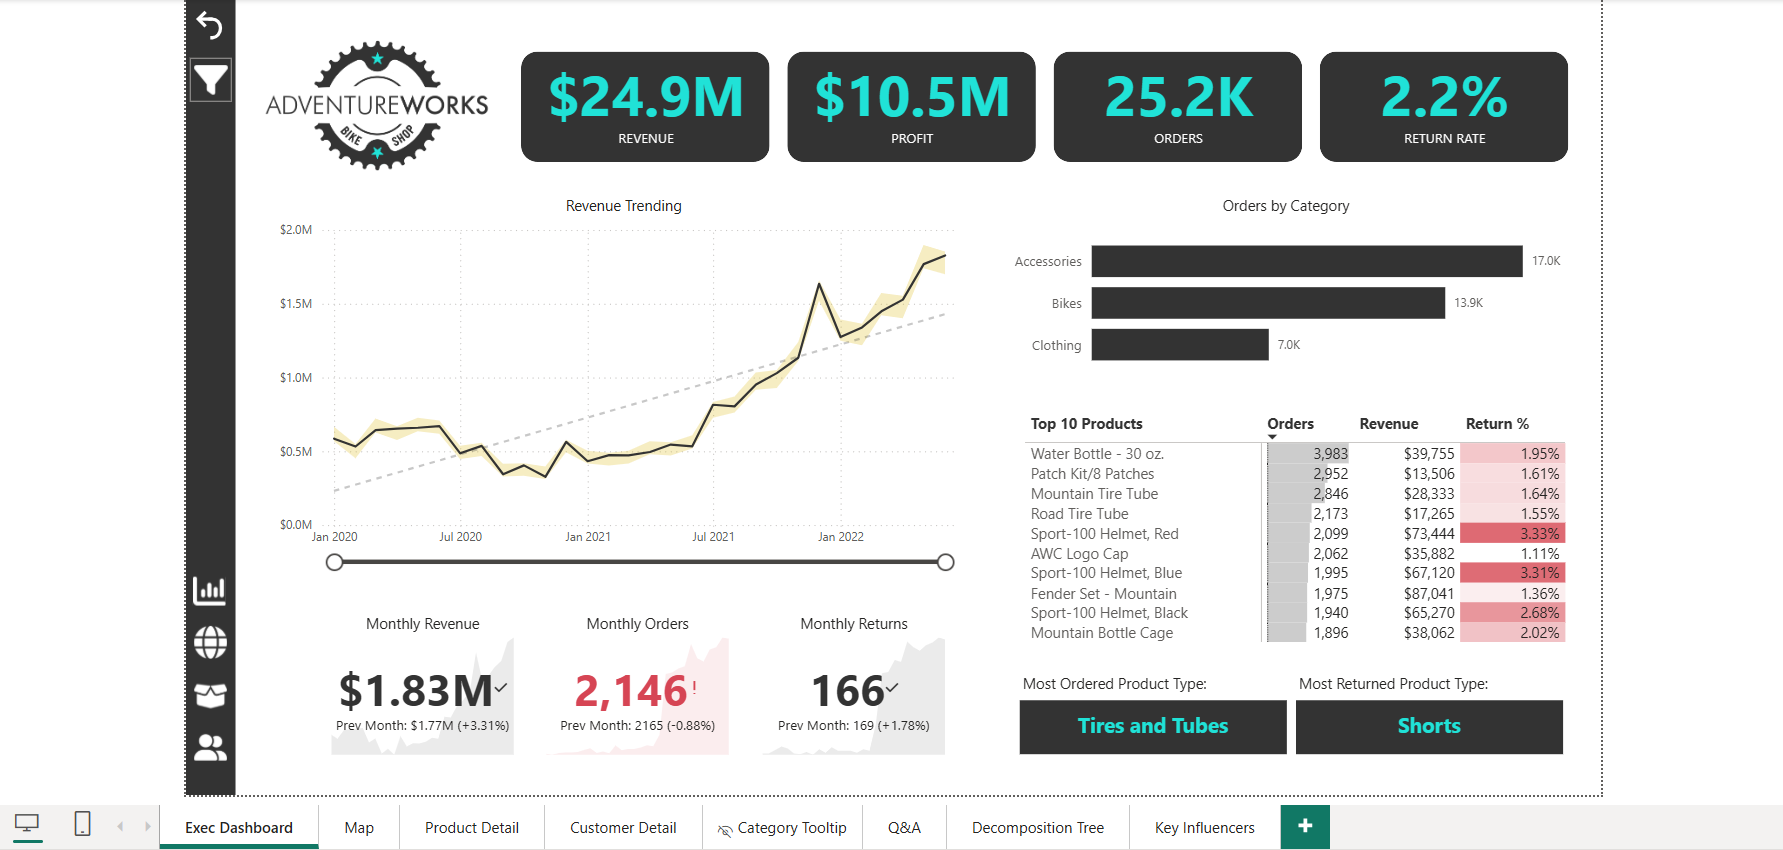

This screenshot's page, from the dashboard's own definition file:
{"tool":"powerbi","page":{"name":"Exec Dashboard","canvas":[1280,720],"ordinal":0},"visuals":[{"type":"card","fields":{"Values":["Measure Table.Total Revenue"]},"box":[288.1,17.8,256.2,150],"z":0,"group":"g2"},{"type":"image","title":"AW Logo","box":[45.6,26.6,256.2,141.2],"z":0},{"type":"shape","box":[303.1,47.8,225,100],"z":0,"group":"g1"},{"type":"actionButton","box":[2.5,516.7,45.6,37.8],"z":0,"group":"g3"},{"type":"card","fields":{"Values":["Measure Table.Total Profit"]},"box":[528.9,17.8,256.2,150],"z":1000,"group":"g2"},{"type":"shape","box":[543.9,47.8,225,100],"z":1000,"group":"g1"},{"type":"actionButton","box":[3.3,563.4,45.6,37.8],"z":1000,"group":"g3"},{"type":"card","fields":{"Values":["Measure Table.Total Orders"]},"box":[769.8,17.8,256.2,150],"z":2000,"group":"g2"},{"type":"group","id":"g1","title":"KPI Backgrounds","box":[303.1,47.8,947.5,100],"z":2000},{"type":"shape","box":[784.8,47.8,225,100],"z":2000,"group":"g1"},{"type":"actionButton","box":[3.3,611.1,45.6,37.8],"z":2000,"group":"g3"},{"type":"shape","title":"Left Nav Background","box":[0,0,45,720],"z":3000},{"type":"card","fields":{"Values":["Measure Table.Return Rate"]},"box":[1010.6,17.8,256.2,150],"z":3000,"group":"g2"},{"type":"shape","box":[1025.6,47.8,225,100],"z":3000,"group":"g1"},{"type":"actionButton","box":[3.3,657.8,45.6,37.8],"z":3000,"group":"g3"},{"type":"group","id":"g2","title":"KPI Values","box":[288.1,17.8,978.8,150],"z":4000},{"type":"lineChart","title":"Revenue Trending","fields":{"Category":["Calendar Lookup.Start of Month"],"Y":["Measure Table.Total Revenue"]},"box":[78.9,177.7,633.8,342.5],"z":5000},{"type":"kpi","title":"Monthly Revenue","fields":{"Goal":["Measure Table.Previous Month Revenue"],"Indicator":["Measure Table.Total Revenue"],"TrendLine":["Calendar Lookup.Start of Month"]},"box":[126.2,555,175,133.8],"z":6000},{"type":"kpi","title":"Monthly Orders","fields":{"Goal":["Measure Table.Previous Month Orders"],"Indicator":["Measure Table.Total Orders"],"TrendLine":["Calendar Lookup.Start of Month"]},"box":[321.2,555,175,133.8],"z":7000},{"type":"kpi","title":"Monthly Returns","fields":{"Goal":["Measure Table.Previous Month Returns"],"Indicator":["Measure Table.Total Returns"],"TrendLine":["Calendar Lookup.Start of Month"]},"box":[516.2,555,175,133.8],"z":8000},{"type":"clusteredBarChart","title":"Orders by Category","fields":{"Category":["Product Categories Lookup.CategoryName"],"Y":["Measure Table.Total Orders"]},"box":[738.9,177.7,511.2,171.2],"z":9000},{"type":"pivotTable","fields":{"Rows":["Product Lookup.ProductName"],"Values":["Measure Table.Total Orders","Measure Table.Total Revenue","Measure Table.Return Rate"]},"box":[753.7,369.2,511.1,228.4],"z":10000},{"type":"card","fields":{"Values":["Min(Product Subcategories Lookup.SubcategoryName)"]},"box":[753.7,634.2,241.4,48.5],"z":11000},{"type":"textbox","box":[751.3,604.6,198.8,35.5],"z":12000},{"type":"card","fields":{"Values":["Min(Product Subcategories Lookup.SubcategoryName)"]},"box":[1004.1,634.2,241.4,48.5],"z":13000},{"type":"textbox","box":[1002.2,605.2,198.8,35.5],"z":14000},{"type":"actionButton","box":[3.3,5.6,35.6,35.6],"z":15000},{"type":"group","id":"g3","title":"Navigation Buttons","box":[2.5,516.7,46.4,178.9],"z":16000},{"type":"actionButton","box":[3.4,53.1,38.4,39.6],"z":17000}]}

Visuals, with their boxes on the page's 1280x720 design canvas (x1, y1, x2, y2). These are canvas units, not pixel positions in the 1783x850 screenshot, which may show the page scaled, cropped or inside an application window:
card - Measure Table.Total Revenue: box(288, 18, 544, 168)
"AW Logo" image: box(46, 27, 302, 168)
shape: box(303, 48, 528, 148)
actionButton: box(2, 517, 48, 554)
card - Measure Table.Total Profit: box(529, 18, 785, 168)
shape: box(544, 48, 769, 148)
actionButton: box(3, 563, 49, 601)
card - Measure Table.Total Orders: box(770, 18, 1026, 168)
"KPI Backgrounds" group: box(303, 48, 1251, 148)
shape: box(785, 48, 1010, 148)
actionButton: box(3, 611, 49, 649)
"Left Nav Background" shape: box(0, 0, 45, 720)
card - Measure Table.Return Rate: box(1011, 18, 1267, 168)
shape: box(1026, 48, 1251, 148)
actionButton: box(3, 658, 49, 696)
"KPI Values" group: box(288, 18, 1267, 168)
"Revenue Trending" lineChart: box(79, 178, 713, 520)
"Monthly Revenue" kpi: box(126, 555, 301, 689)
"Monthly Orders" kpi: box(321, 555, 496, 689)
"Monthly Returns" kpi: box(516, 555, 691, 689)
"Orders by Category" clusteredBarChart: box(739, 178, 1250, 349)
pivotTable - Product Lookup.ProductName x Measure Table.Total Orders: box(754, 369, 1265, 598)
card - Min(Product Subcategories Lookup.SubcategoryName): box(754, 634, 995, 683)
textbox: box(751, 605, 950, 640)
card - Min(Product Subcategories Lookup.SubcategoryName): box(1004, 634, 1246, 683)
textbox: box(1002, 605, 1201, 641)
actionButton: box(3, 6, 39, 41)
"Navigation Buttons" group: box(2, 517, 49, 696)
actionButton: box(3, 53, 42, 93)
